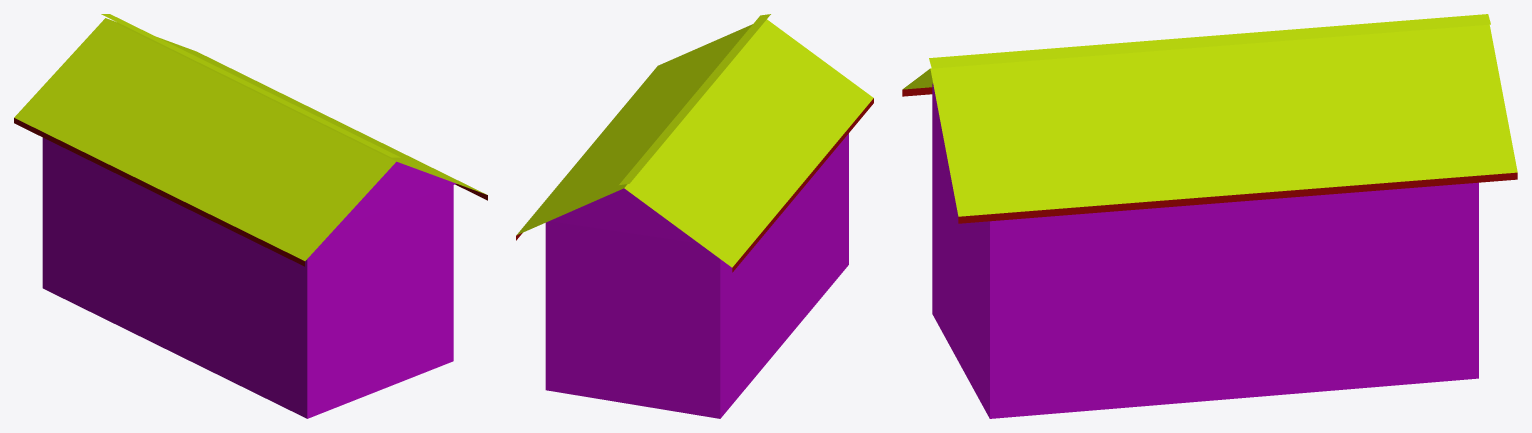
3 views of the same model, side by side, from view 1: azimuth 30°, elevation 25°; view 2: azimuth 150°, elevation 25°; view 3: azimuth 270°, elevation 25° (orthographic). The views are drawn at different scales.
Visible parts, largest first — view 1: sc_53; view 2: sc_53; view 3: sc_53.
Boxes of the visible parts, x1=… form: sc_53: x1=14, y1=14, x2=487, y2=418; sc_53: x1=516, y1=14, x2=873, y2=418; sc_53: x1=902, y1=14, x2=1517, y2=418.
Bounding box in the file's own units: 6.26 × 5.24 × 9.51.
